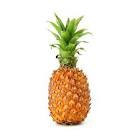Pineapple: (46, 12, 96, 126)
